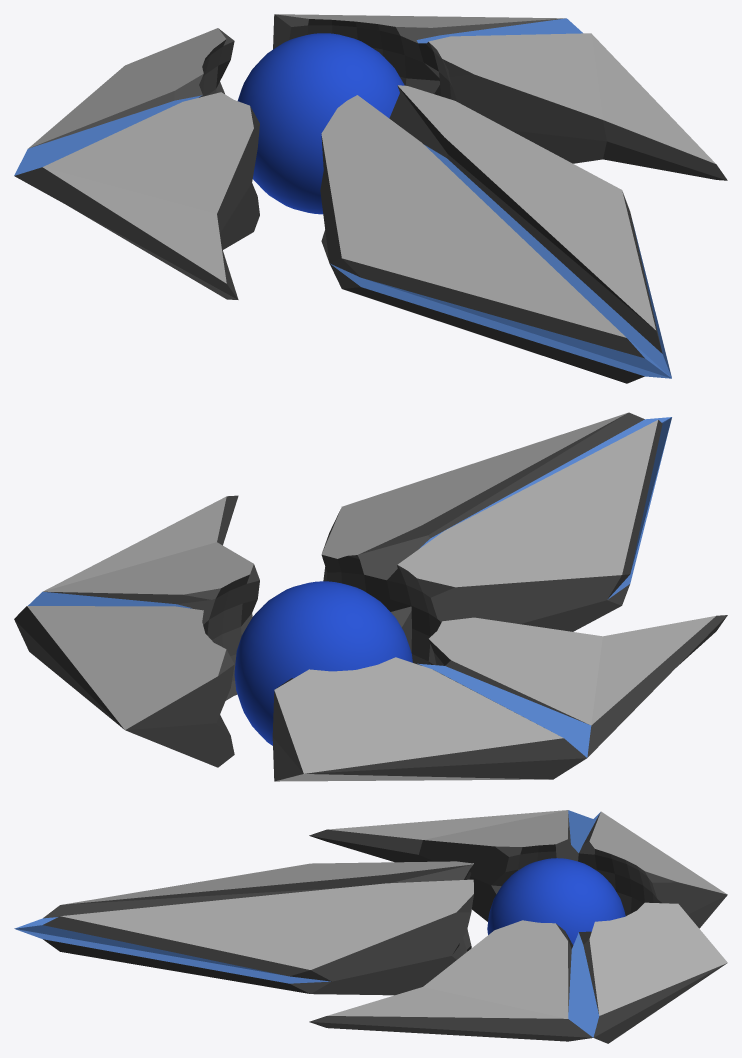
The model's file is Ship.fbx.
The picture shows the model from 3 angles, top to bottom: view 1: azimuth 30°, elevation 25°; view 2: azimuth 150°, elevation 25°; view 3: azimuth 270°, elevation 25°; orthographic projection. The views are drawn at different scales.
Parts seen in each view (by area): view 1: Ship2, R_Section, L_Section; view 2: Ship2, R_Section, L_Section; view 3: Ship2, L_Section, R_Section.
Part boxes in pixels (<box>): Ship2: <box>237,33,671,383</box>; R_Section: <box>14,28,259,299</box>; L_Section: <box>273,14,727,180</box>; Ship2: <box>234,412,671,745</box>; R_Section: <box>272,615,727,781</box>; L_Section: <box>14,495,259,767</box>; Ship2: <box>14,858,625,995</box>; L_Section: <box>309,902,727,1043</box>; R_Section: <box>309,810,727,928</box>.
Size of the model in its own units: 69.74 by 18.99 by 96.45.
